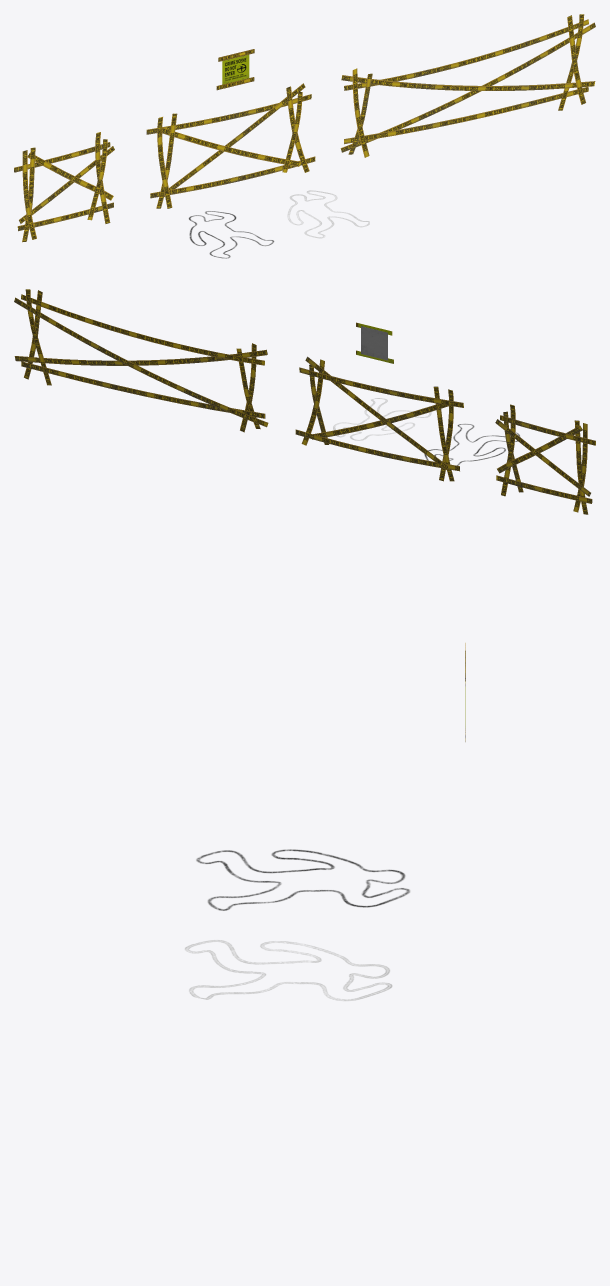
Rendered from PoliceTape.glb.
3 views of the same model, one above another, from view 1: azimuth 30°, elevation 25°; view 2: azimuth 150°, elevation 25°; view 3: azimuth 270°, elevation 25° (orthographic). The views are drawn at different scales.
Parts seen in each view (by area): view 1: CrimeTapeLarge, CrimeTapeMedium, CrimeTapeSmall, Sign, Body2, Body1; view 2: CrimeTapeLarge, CrimeTapeMedium, CrimeTapeSmall, Sign, Body1, Body2; view 3: Body2, Body1.
Part boxes in pixels (box(x1,y1,x2,y2)): CrimeTapeLarge: box(340, 14, 595, 157); CrimeTapeMedium: box(146, 83, 315, 208); CrimeTapeSmall: box(14, 132, 114, 242); Sign: box(216, 49, 254, 90); Body2: box(287, 190, 369, 238); Body1: box(188, 211, 274, 258); CrimeTapeLarge: box(14, 289, 268, 432); CrimeTapeMedium: box(295, 356, 463, 481); CrimeTapeSmall: box(495, 404, 595, 514); Sign: box(356, 322, 393, 363); Body1: box(424, 423, 520, 465); Body2: box(333, 398, 431, 440); Body2: box(185, 940, 392, 1001); Body1: box(196, 849, 410, 910).
Size of the model in its own units: 8.38 by 1.9 by 2.05.
Materials: 1 (1 with a texture image).
